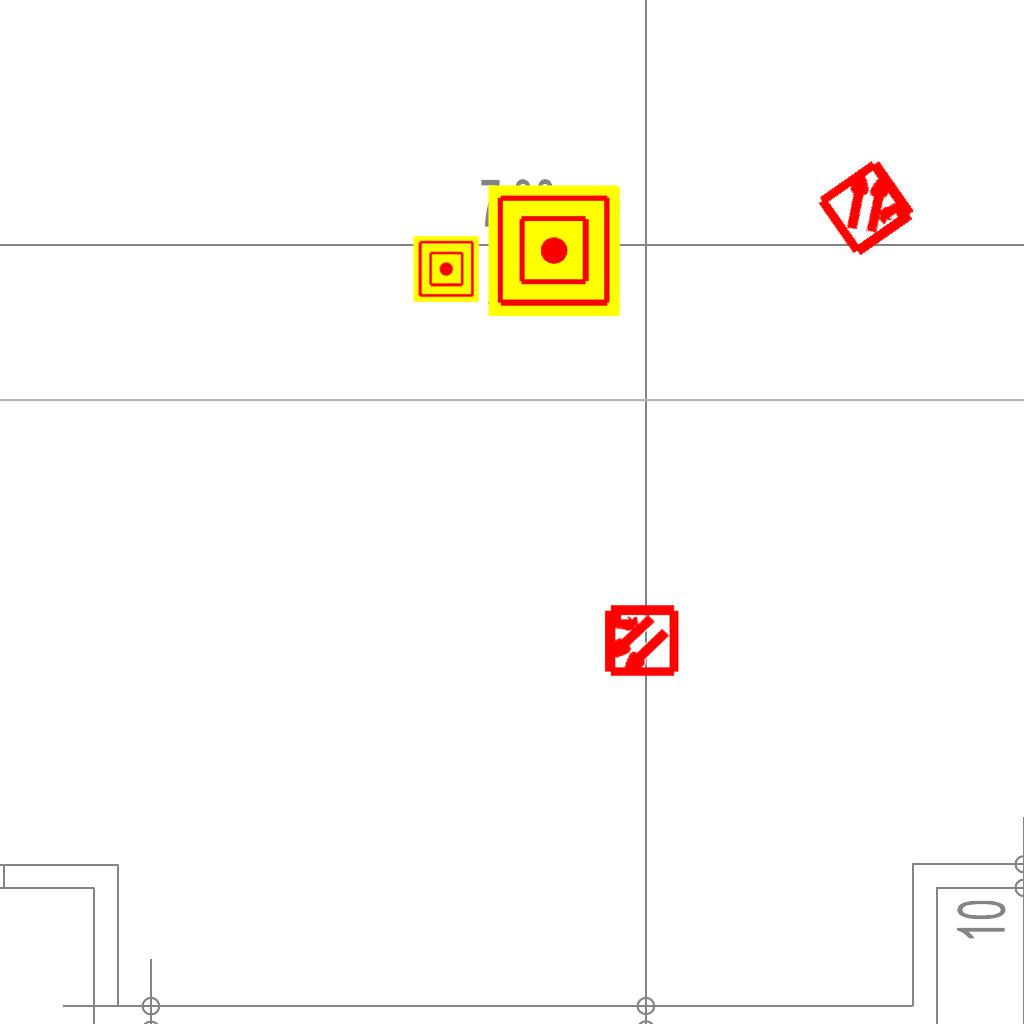NAM-Nichtautomatischer_Melder: (488, 185, 620, 317), (413, 236, 479, 302)
OT_Multisensormelder_(Kombination_RMO_WMD): (789, 127, 948, 286), (583, 584, 696, 697)
